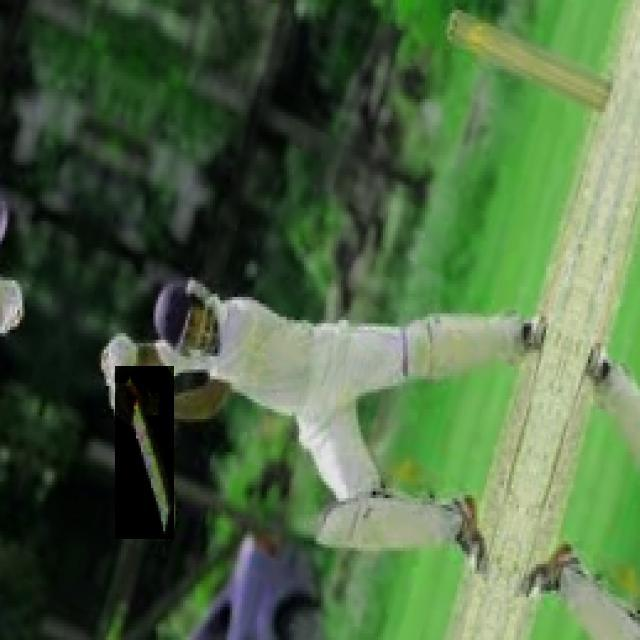bat: (120, 368, 173, 536)
toe: (154, 508, 172, 536)
